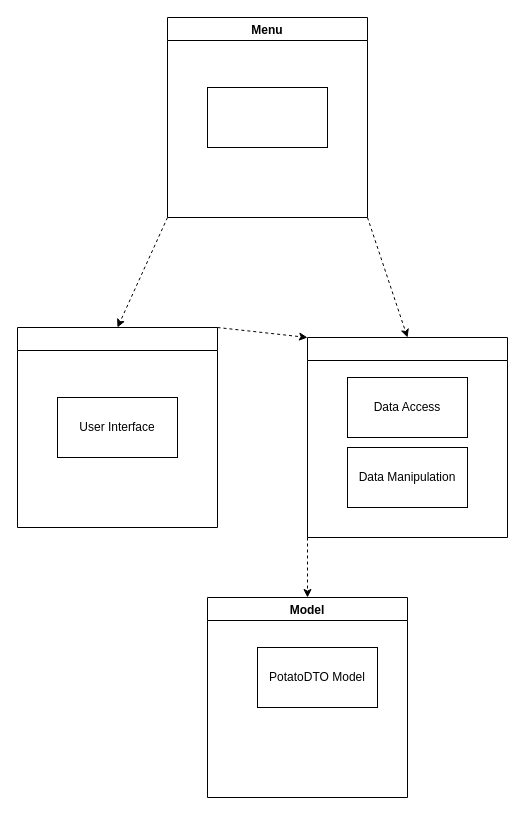
Some shapes in this 525 by 815 pixel diagram are drawn without their labels. Here are the shapes that lost their labels. From the top down, the box of each, then its label:
(206, 86, 328, 148): Menu Descision Making
(16, 326, 218, 528): View
(306, 336, 508, 538): Controler
